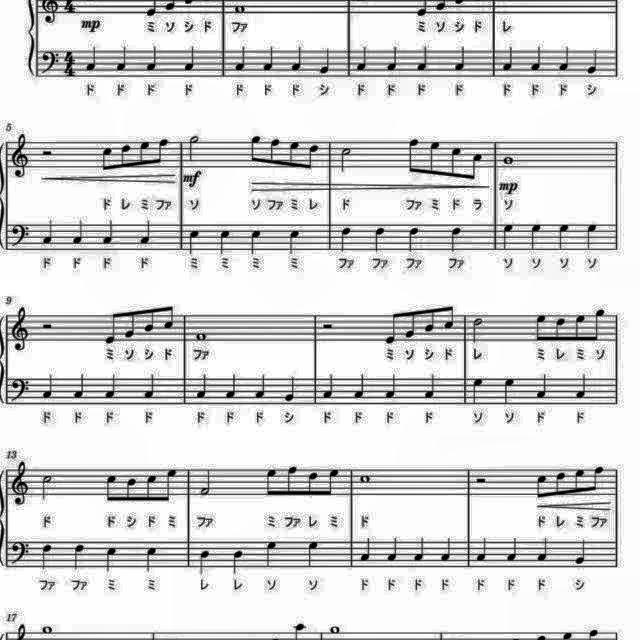Bass-clef: (8, 538, 32, 570), (8, 375, 32, 405), (8, 222, 32, 250), (39, 48, 61, 76)
Eighth-note: (405, 135, 423, 177), (591, 306, 609, 346), (100, 310, 118, 350), (379, 310, 397, 350), (102, 469, 120, 505), (426, 138, 442, 178), (162, 466, 178, 506), (246, 133, 264, 167), (448, 144, 464, 180), (96, 142, 114, 174), (532, 471, 550, 502), (283, 466, 299, 500), (286, 139, 302, 173), (268, 135, 284, 169), (124, 306, 140, 340), (143, 471, 159, 505), (570, 312, 586, 346), (404, 306, 420, 340), (468, 151, 484, 185), (532, 310, 548, 344), (264, 466, 280, 500), (324, 466, 340, 499), (117, 142, 133, 174), (590, 462, 606, 494), (136, 139, 152, 171), (422, 302, 438, 334), (570, 466, 586, 498), (304, 140, 320, 172), (442, 300, 458, 332), (142, 302, 158, 334), (162, 300, 178, 332), (124, 475, 140, 505), (156, 136, 172, 166), (554, 468, 568, 499), (554, 313, 568, 343), (306, 470, 320, 500)
Full-note: (38, 624, 58, 640), (193, 328, 210, 344), (357, 470, 373, 486), (500, 154, 516, 168), (234, 1, 248, 15)
Half-note: (38, 472, 56, 504), (198, 466, 216, 498), (184, 132, 202, 164), (337, 145, 355, 175), (468, 316, 484, 346)
Half-rest: (38, 316, 56, 332), (38, 146, 58, 158), (319, 318, 336, 332), (474, 474, 491, 486)
Quarter-note: (467, 374, 485, 406), (36, 542, 54, 574), (571, 536, 589, 568), (263, 538, 281, 570), (183, 44, 201, 76), (584, 221, 602, 253), (70, 542, 88, 574), (142, 542, 160, 574), (499, 374, 516, 406), (405, 225, 423, 255), (380, 370, 398, 400), (102, 371, 120, 401), (103, 544, 121, 574), (449, 45, 467, 75), (285, 227, 303, 257), (229, 547, 247, 577), (337, 223, 355, 253), (571, 371, 589, 401), (414, 44, 432, 74), (422, 369, 440, 399), (498, 44, 516, 74), (371, 225, 389, 255), (70, 371, 88, 401), (447, 225, 465, 255), (532, 371, 550, 401), (194, 371, 212, 401), (39, 372, 57, 402), (38, 219, 56, 249), (350, 371, 368, 401), (306, 538, 322, 570), (530, 220, 546, 252), (317, 46, 333, 78), (586, 46, 602, 78), (556, 44, 572, 76), (215, 227, 232, 257), (233, 44, 250, 74), (198, 547, 215, 577), (499, 222, 516, 252), (319, 371, 336, 401), (184, 228, 202, 256), (282, 372, 298, 403), (84, 44, 100, 74), (248, 227, 264, 257), (556, 221, 572, 251), (144, 45, 160, 75), (138, 218, 154, 248), (142, 371, 158, 401), (385, 44, 401, 74), (254, 370, 270, 400), (475, 535, 491, 565), (113, 45, 129, 75), (354, 46, 370, 76), (222, 371, 238, 401), (262, 45, 278, 75), (506, 535, 522, 565), (412, 535, 428, 565), (358, 533, 374, 563), (534, 536, 550, 564), (100, 220, 116, 248), (532, 44, 546, 76), (290, 44, 304, 76), (440, 536, 456, 564), (70, 220, 86, 248), (386, 535, 400, 565)
Treble-clef: (8, 306, 32, 356), (8, 459, 32, 509), (8, 130, 32, 178)
